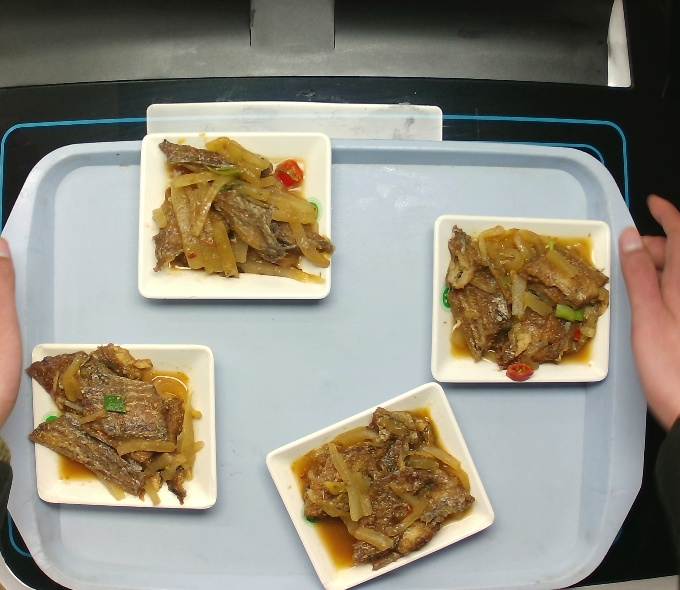wcq-DaiYu: (283, 399, 474, 575), (21, 337, 206, 516), (152, 130, 344, 291), (441, 218, 610, 380)
